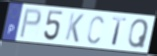5: (43, 10, 65, 42)
C: (86, 14, 105, 45)
K: (64, 12, 86, 44)
P: (18, 7, 43, 39)
Q: (127, 18, 150, 50)
T: (111, 16, 128, 47)
